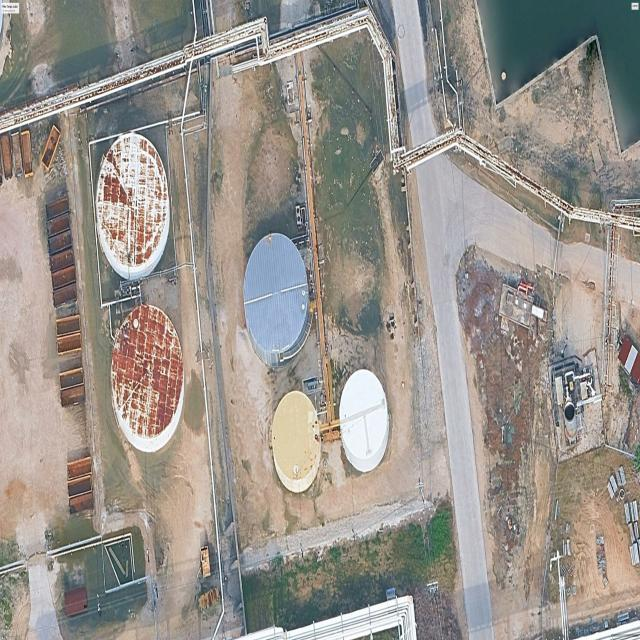Oil Rafinery: (96, 133, 170, 279), (110, 304, 184, 450), (243, 233, 312, 368), (339, 369, 389, 472), (272, 390, 321, 493)
